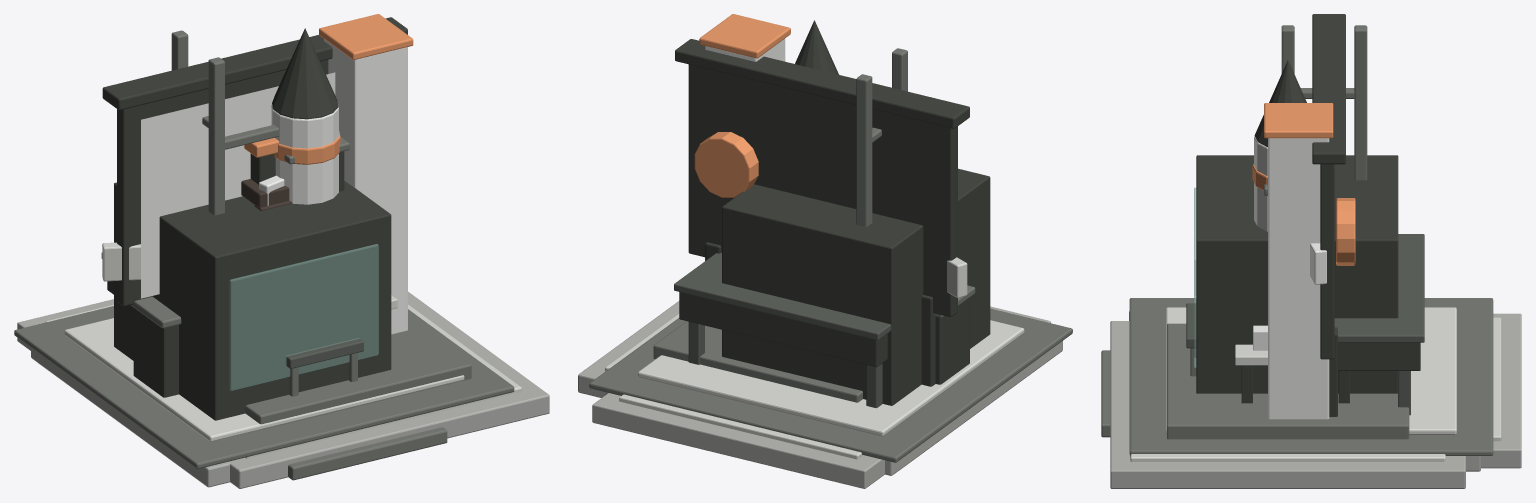
File: props.glb
3 views of the same model, side by side, from view 1: azimuth 30°, elevation 25°; view 2: azimuth 150°, elevation 25°; view 3: azimuth 270°, elevation 25° (orthographic). The views are drawn at different scales.
Visible parts, largest first — view 1: LM_printer, Kiosk, LM_pad, LM_monolith, Kiosk_Screen, LM_sign, LM_piano, JK_Head; view 2: Kiosk, LM_printer, LM_piano, LM_pad, LM_monolith, LM_sign; view 3: LM_pad, Kiosk, LM_printer, LM_monolith, LM_piano, LM_desk, LM_sign.
Boxes of the visible parts, left/top/right/bottom form: LM_printer: left=114, top=181, right=391, bottom=420; Kiosk: left=14, top=17, right=514, bottom=480; LM_pad: left=171, top=28, right=549, bottom=488; LM_monolith: left=37, top=14, right=413, bottom=487; Kiosk_Screen: left=141, top=72, right=335, bottom=298; LM_sign: left=102, top=138, right=284, bottom=281; LM_piano: left=17, top=252, right=363, bottom=396; JK_Head: left=241, top=179, right=292, bottom=210; Kiosk: left=589, top=39, right=1072, bottom=475; LM_printer: left=694, top=132, right=990, bottom=405; LM_piano: left=592, top=253, right=891, bottom=488; LM_pad: left=578, top=20, right=1050, bottom=402; LM_monolith: left=699, top=14, right=1062, bottom=470; LM_sign: left=947, top=257, right=967, bottom=297; LM_pad: left=1110, top=25, right=1465, bottom=488; Kiosk: left=1101, top=14, right=1493, bottom=471; LM_printer: left=1194, top=155, right=1398, bottom=393; LM_monolith: left=1129, top=103, right=1466, bottom=471; LM_piano: left=1186, top=234, right=1521, bottom=468; LM_desk: left=1235, top=325, right=1349, bottom=403; LM_sign: left=1310, top=243, right=1326, bottom=284.
Size of the model in its own units: 4.86 by 5.07 by 5.2.
